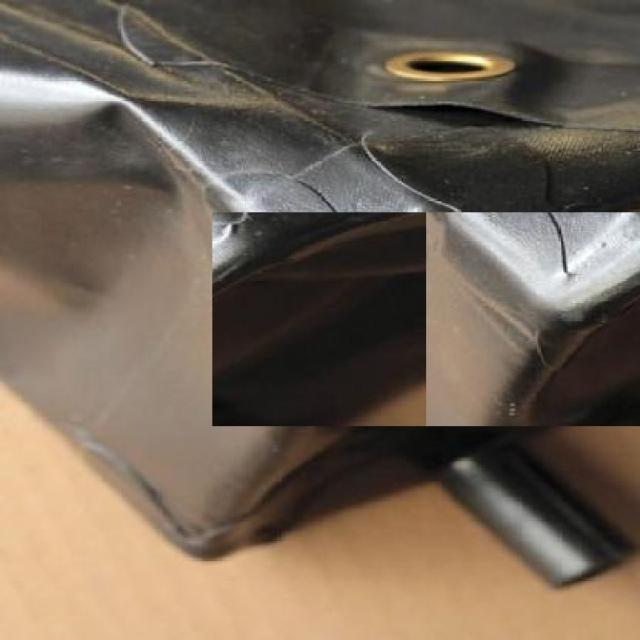crack: (532, 214, 605, 280), (299, 176, 345, 210)
